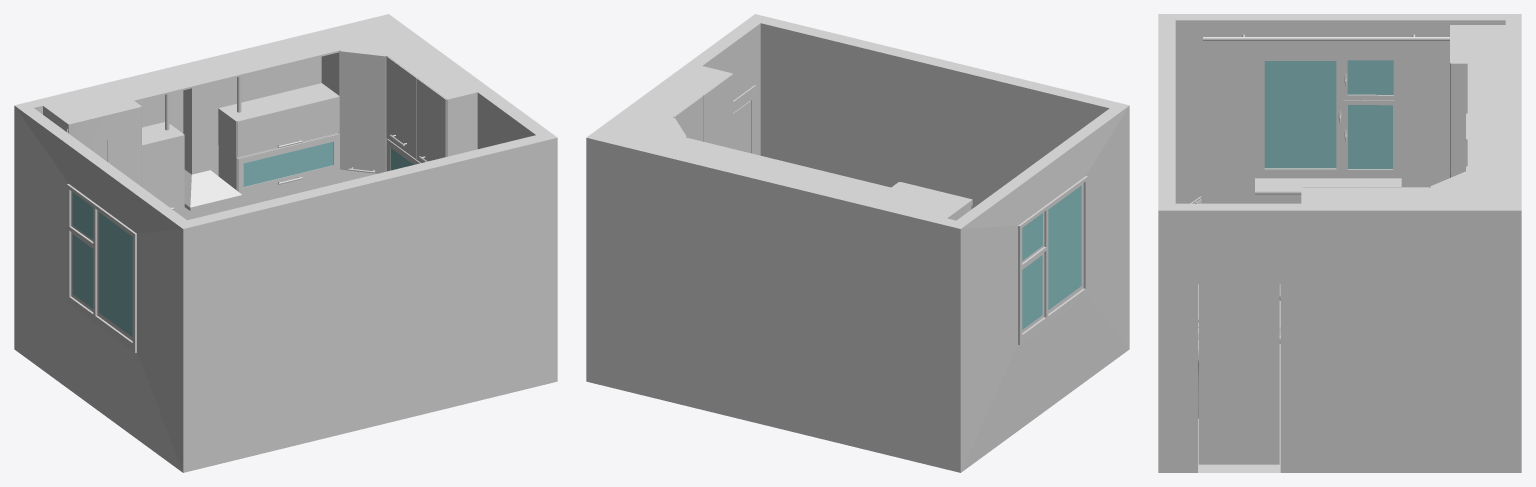
Rendered from kitchen_all.fbx.
The picture shows the model from 3 angles, left to right: view 1: azimuth 30°, elevation 25°; view 2: azimuth 150°, elevation 25°; view 3: azimuth 270°, elevation 25°; orthographic projection. The views are drawn at different scales.
Parts seen in each view (by area): view 1: walls, windows, box_3_door, box_6, plate, box_2_door, box_5_door, box_1, refrigerator_door_1, box_3, box_4, box_6_door (+5 smaller); view 2: walls, windows, box_6, refrigerator, box_1_right_door, box_3, box_1, box_1_left_door, door; view 3: walls, windows, door, box_6, refrigerator, box_3, box_1, sill, Gardin, refrigerator_door_1.
Boxes of the visible parts, bbox=[...] form: walls: bbox=[14, 14, 557, 472]; windows: bbox=[67, 184, 136, 349]; box_3_door: bbox=[340, 50, 385, 173]; box_6: bbox=[117, 37, 339, 206]; plate: bbox=[183, 83, 242, 210]; box_2_door: bbox=[237, 96, 339, 157]; box_5_door: bbox=[237, 134, 339, 193]; box_1: bbox=[387, 48, 477, 156]; refrigerator_door_1: bbox=[66, 105, 141, 186]; box_3: bbox=[321, 23, 417, 171]; box_4: bbox=[218, 83, 339, 157]; box_6_door: bbox=[142, 135, 183, 209]; walls: bbox=[586, 14, 1129, 472]; windows: bbox=[1018, 176, 1087, 342]; box_6: bbox=[668, 137, 890, 200]; refrigerator: bbox=[874, 183, 970, 220]; box_1_right_door: bbox=[703, 74, 733, 148]; box_3: bbox=[607, 109, 685, 150]; box_1: bbox=[642, 66, 732, 117]; box_1_left_door: bbox=[673, 95, 703, 141]; door: bbox=[733, 100, 750, 153]; walls: bbox=[1158, 14, 1521, 472]; windows: bbox=[1255, 60, 1401, 178]; door: bbox=[1198, 284, 1279, 464]; box_6: bbox=[1467, 63, 1505, 171]; refrigerator: bbox=[1454, 25, 1505, 175]; box_3: bbox=[1429, 171, 1505, 203]; box_1: bbox=[1301, 187, 1429, 203]; sill: bbox=[1255, 178, 1401, 194]; Gardin: bbox=[1203, 34, 1449, 40]; refrigerator_door_1: bbox=[1450, 25, 1454, 177].
Bounding box in the file's own units: 455 × 286 × 352.
